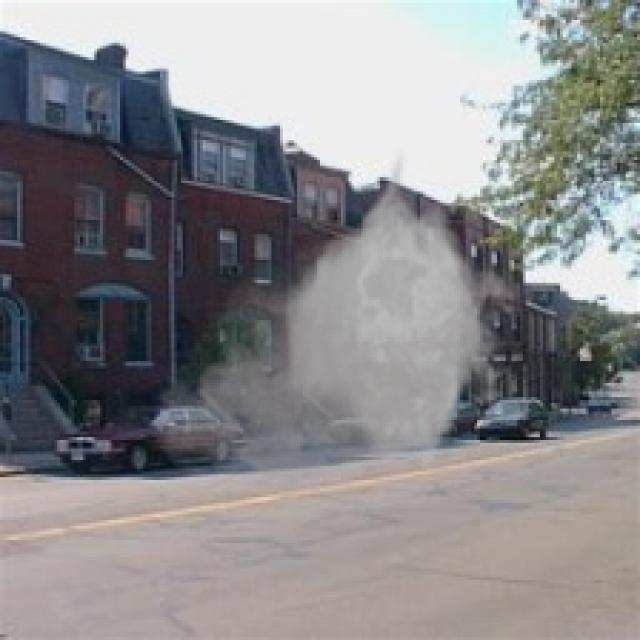Smoke: (148, 146, 528, 508)
